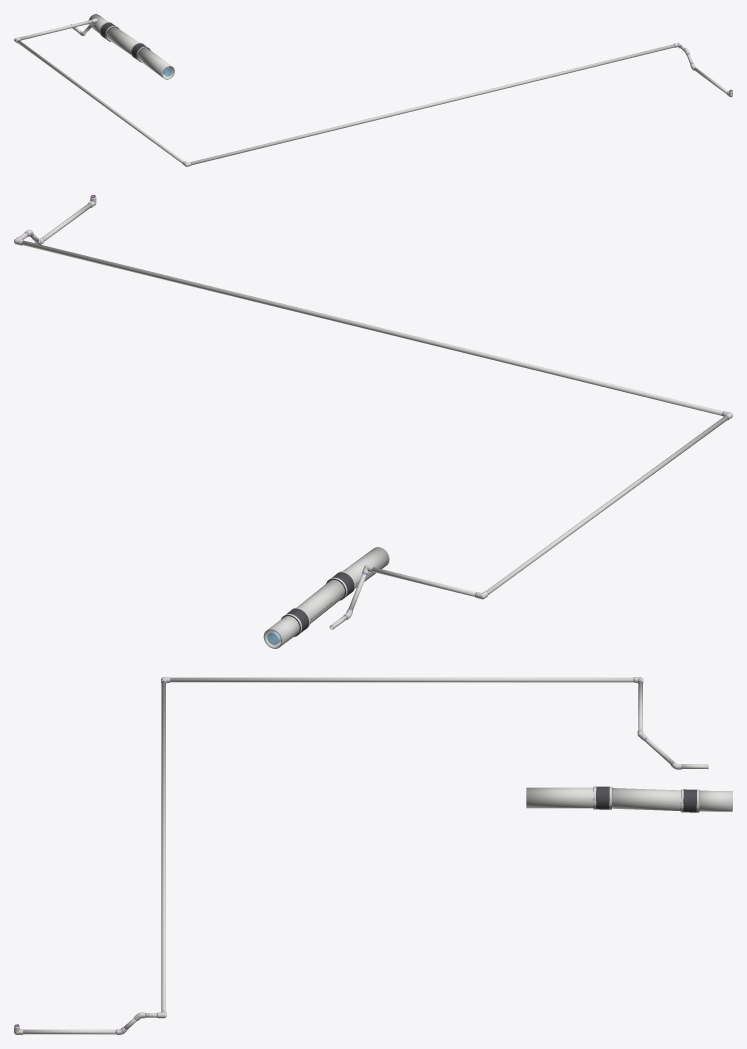
Rendered from slab_pipes_dwv__sewer-septic_spray_fiberglass_train+septic_overland_fiberglass_train.glb.
The picture shows the model from 3 angles, top to bottom: view 1: azimuth 30°, elevation 25°; view 2: azimuth 150°, elevation 25°; view 3: azimuth 270°, elevation 25°; orthographic projection. The views are drawn at different scales.
Parts seen in each view (by area): view 1: pipe_septic_air_line_fglass, pipe_dwv_effluent_fglass; view 2: pipe_septic_air_line_fglass, pipe_dwv_effluent_fglass; view 3: pipe_septic_air_line_fglass, pipe_dwv_effluent_fglass.
Boxes of the visible parts, x1,y1,x2,y2 form: pipe_septic_air_line_fglass: (14, 18, 732, 166); pipe_dwv_effluent_fglass: (88, 14, 174, 79); pipe_septic_air_line_fglass: (14, 195, 732, 629); pipe_dwv_effluent_fglass: (263, 547, 389, 648); pipe_septic_air_line_fglass: (14, 677, 708, 1034); pipe_dwv_effluent_fglass: (526, 786, 732, 812).
Size of the model in its own units: 4.36 by 0.3514 by 3.92.
